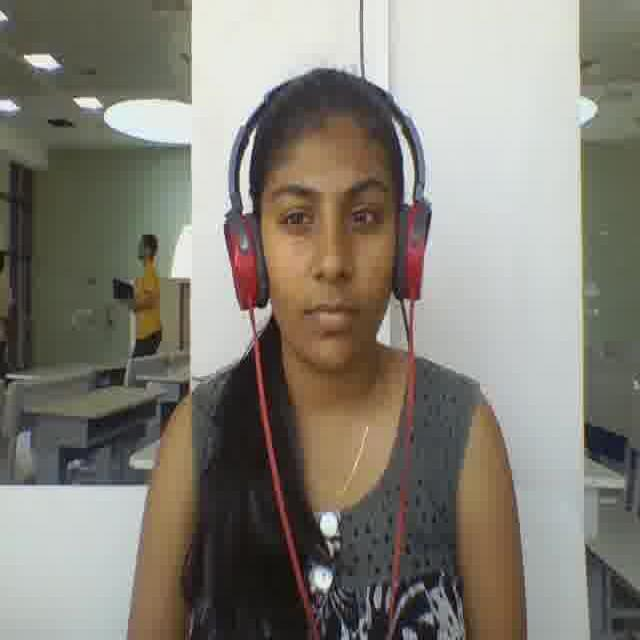Confusion: (257, 118, 399, 366)
